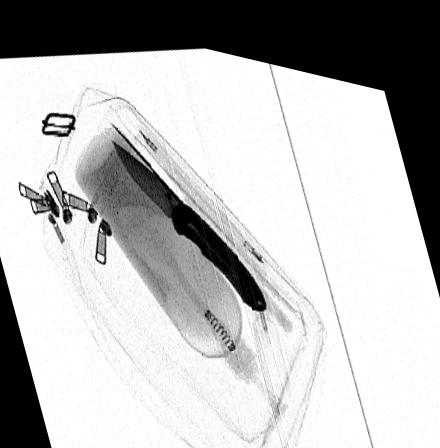Knife: (110, 134, 267, 300)
